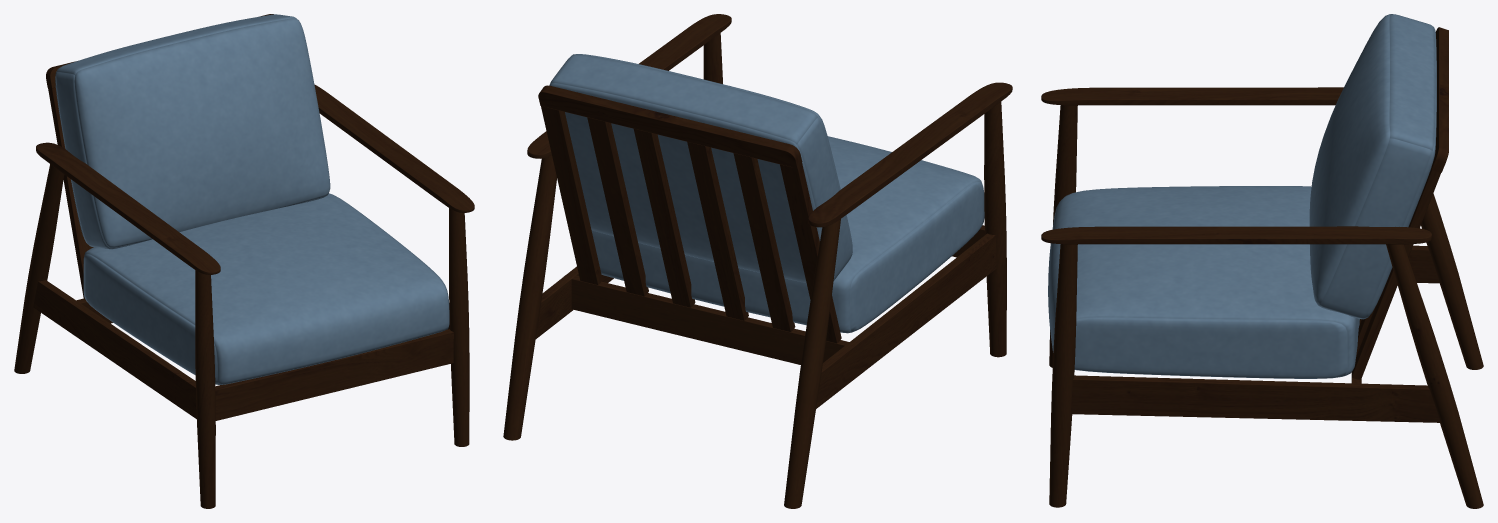
Rendered from chair_66_02.001.fbx.
3 views of the same model, side by side, from view 1: azimuth 30°, elevation 25°; view 2: azimuth 150°, elevation 25°; view 3: azimuth 270°, elevation 25° (orthographic). The views are drawn at different scales.
Parts seen in each view (by area): view 1: chair_66_02.001; view 2: chair_66_02.001; view 3: chair_66_02.001.
Boxes of the visible parts, <box> form: chair_66_02.001: <box>14,14,474,508</box>; chair_66_02.001: <box>503,14,1012,508</box>; chair_66_02.001: <box>1041,14,1483,508</box>.
Size of the model in its own units: 76.92 by 87.18 by 95.18.
1 material, 1 textured.
